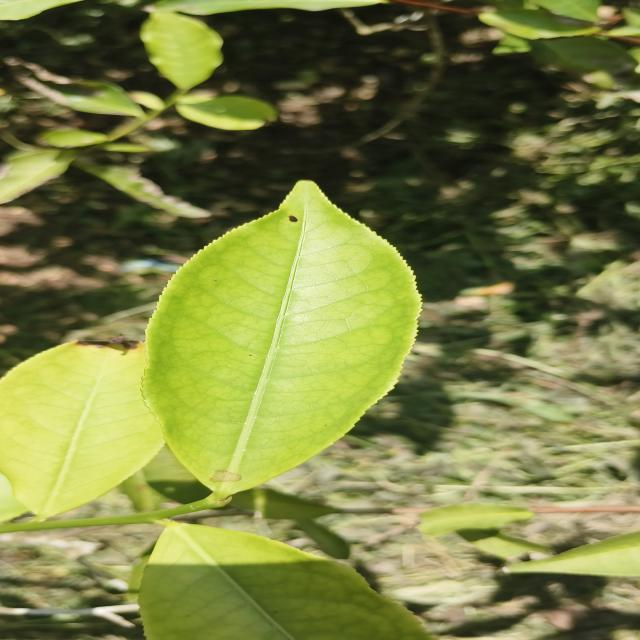Leaf: (143, 182, 421, 499), (138, 523, 429, 640), (0, 342, 163, 519), (140, 11, 223, 90), (509, 532, 640, 576), (0, 149, 77, 203), (478, 9, 598, 40), (532, 36, 634, 72), (420, 503, 533, 535), (176, 94, 275, 130)
